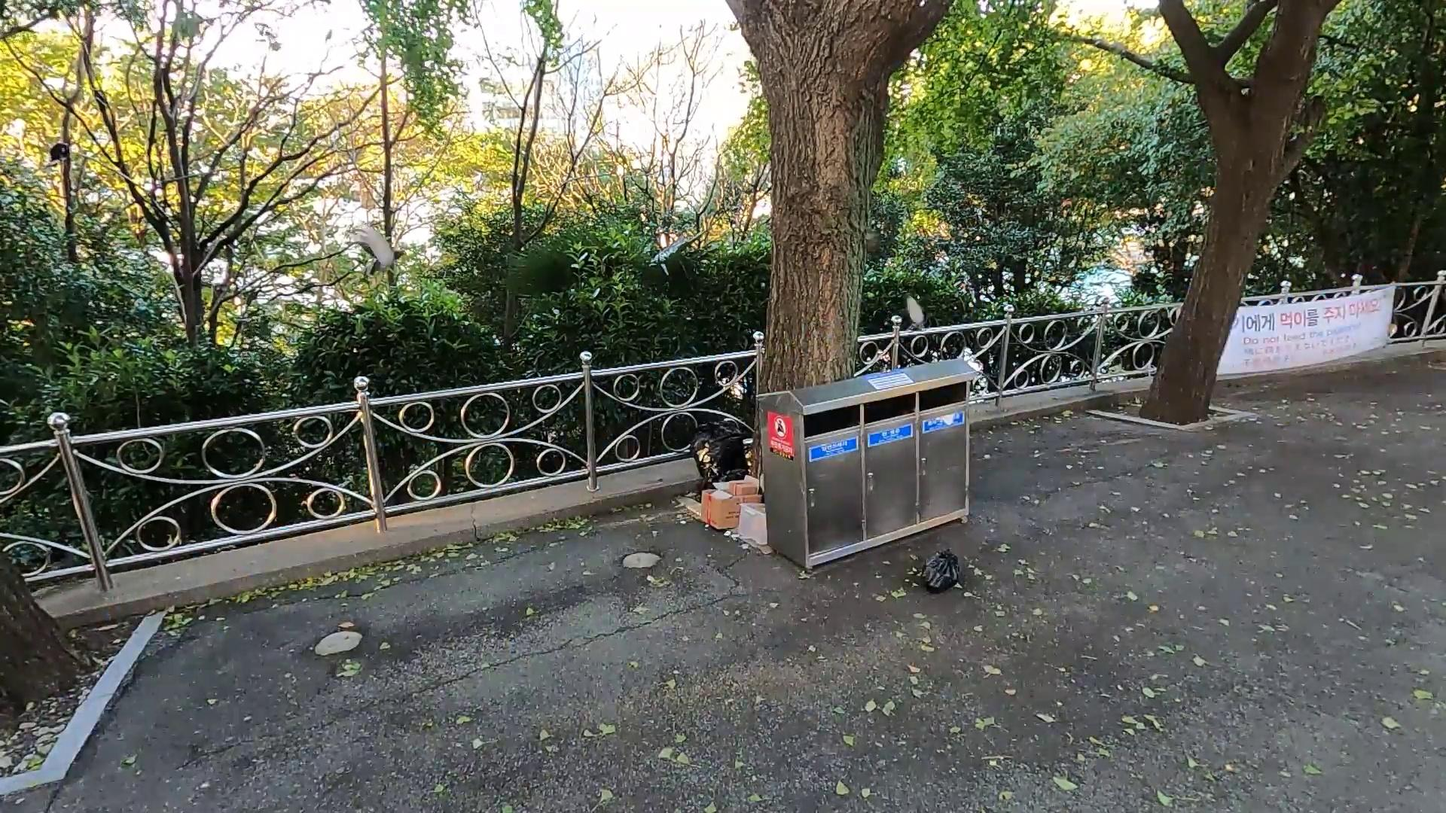trash: (689, 425, 749, 487), (914, 544, 970, 602), (699, 487, 762, 530), (736, 499, 773, 547), (725, 478, 759, 498)
